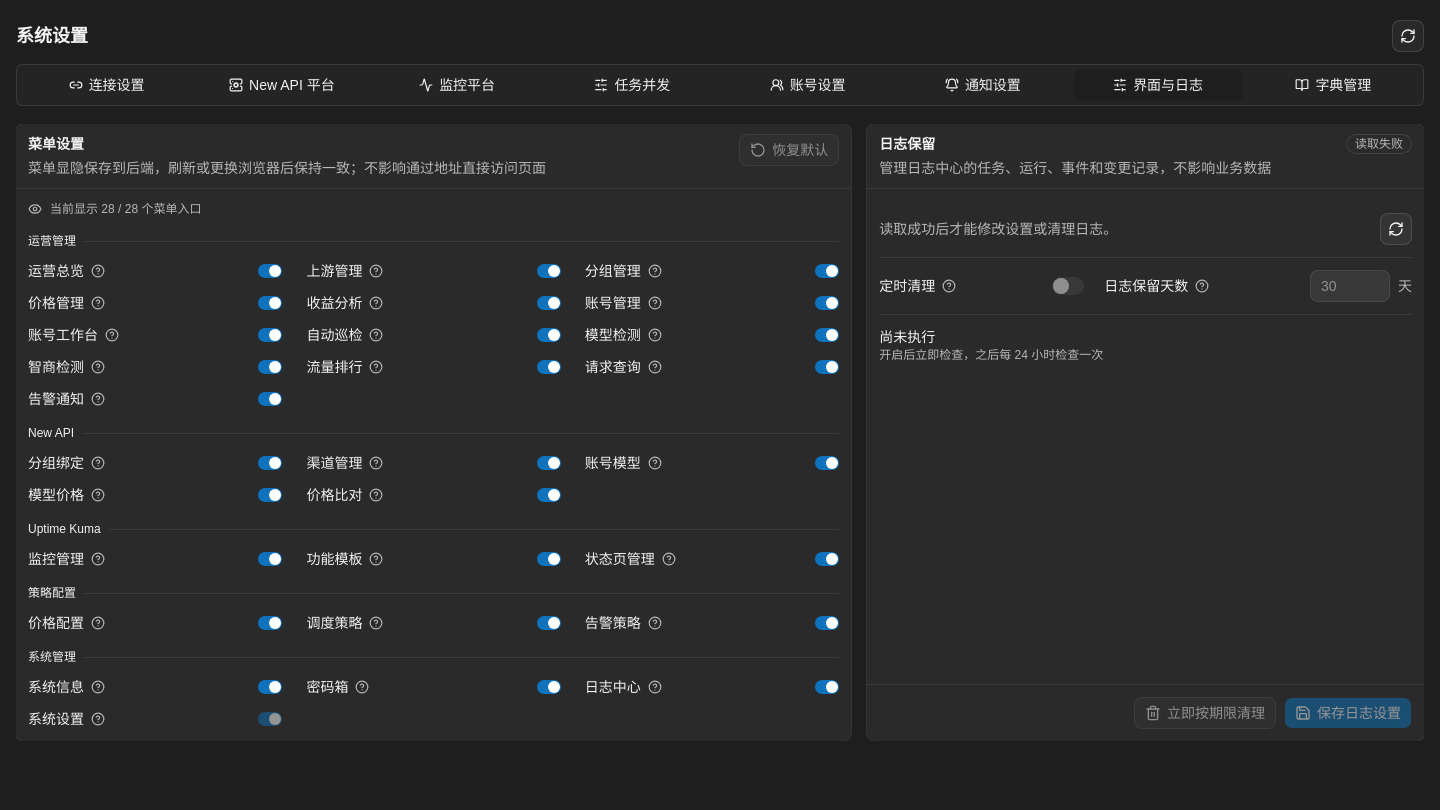
Test case: 系统设置页面职责 › 清理配置读取失败时禁用修改和清理，重试成功后恢复入口
Expected: the number field labelled "日志保留天数" is disabled, x1=1310 y1=270 x2=1390 y2=302
Expected: the button "立即按期限清理" is disabled, x1=1134 y1=697 x2=1276 y2=729
Step 1. Click the button named "刷新日志清理配置" → [1396, 229], box x1=1380 y1=213 x2=1412 y2=245
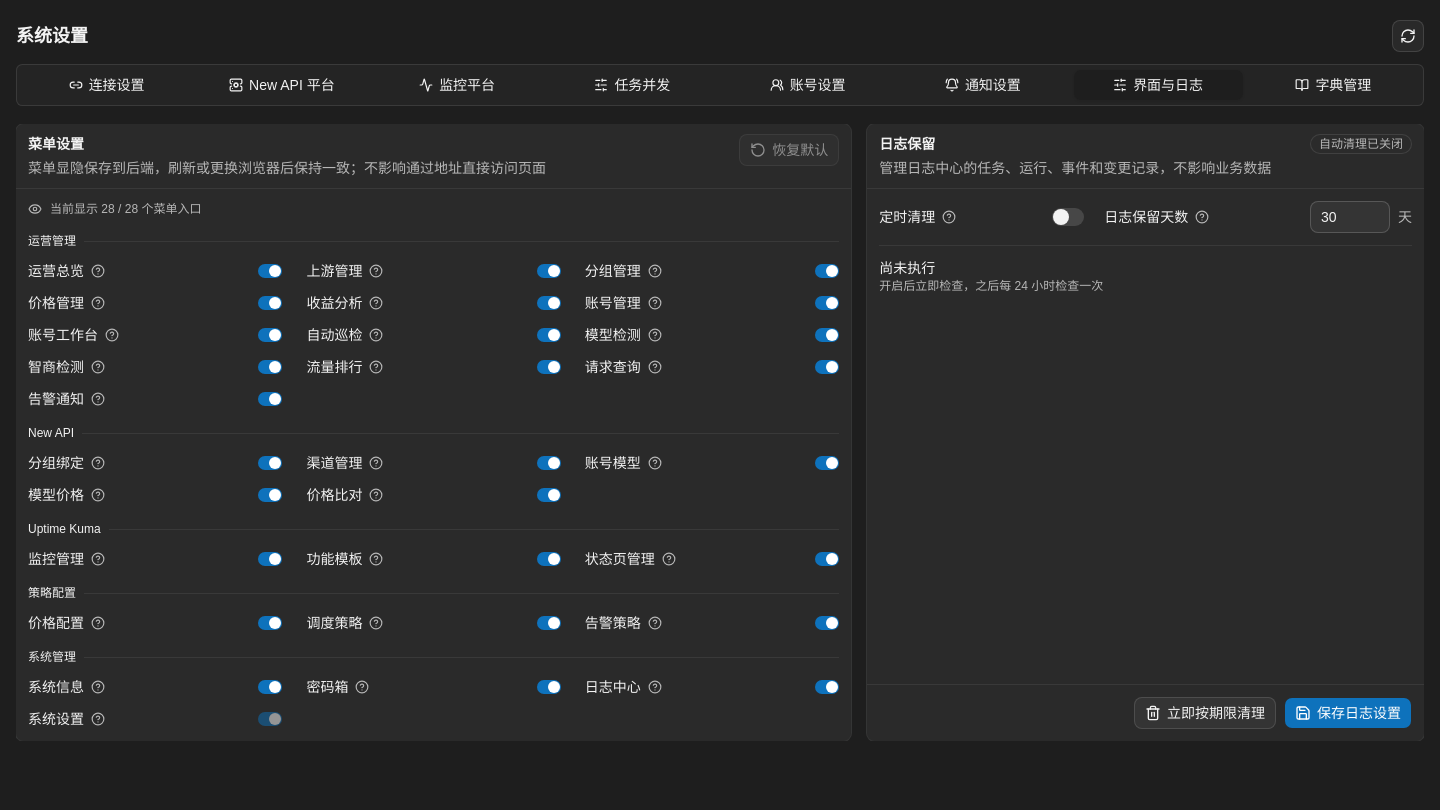
Expected: the button "保存日志设置" is enabled, x1=1284 y1=697 x2=1412 y2=729
Expected: the button "立即按期限清理" is enabled, x1=1134 y1=697 x2=1276 y2=729
Expected: the number field labelled "日志保留天数" is enabled, x1=1310 y1=201 x2=1390 y2=233
